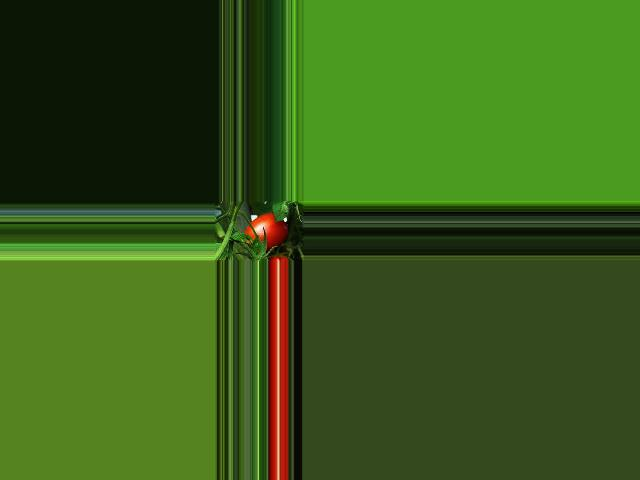tomato: (245, 213, 288, 250)
